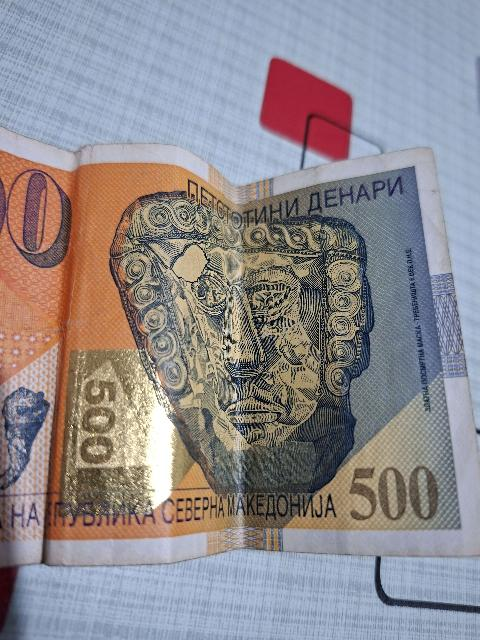500_note: (0, 130, 479, 564)
